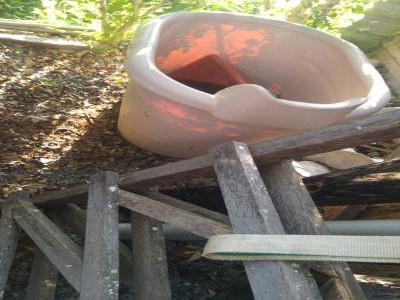bowl: (114, 9, 387, 173)
